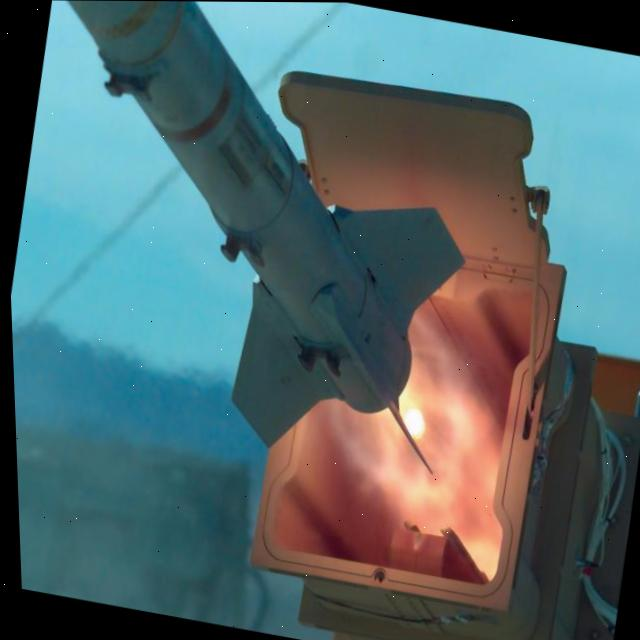missile: (0, 0, 500, 472)
